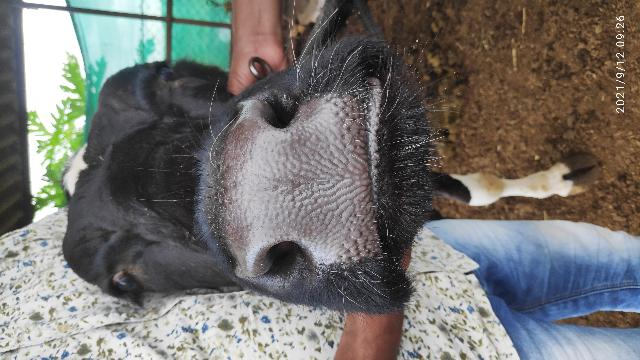Muzzle: (222, 132, 382, 252)
